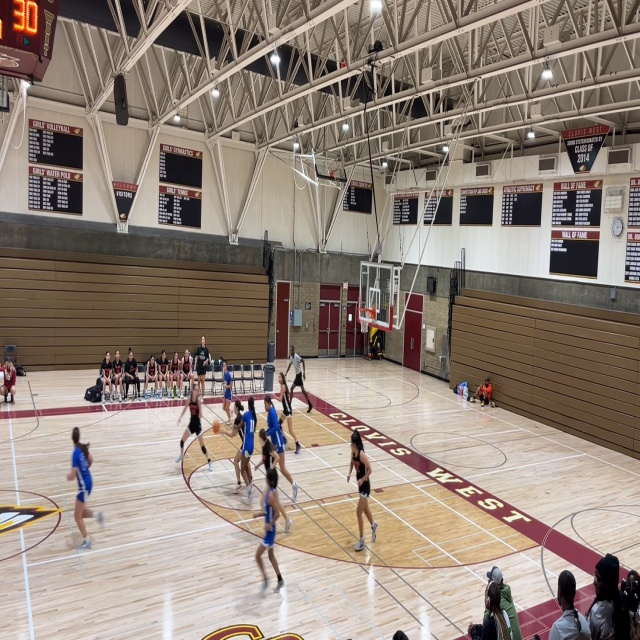Basketball: (213, 421, 220, 433)
